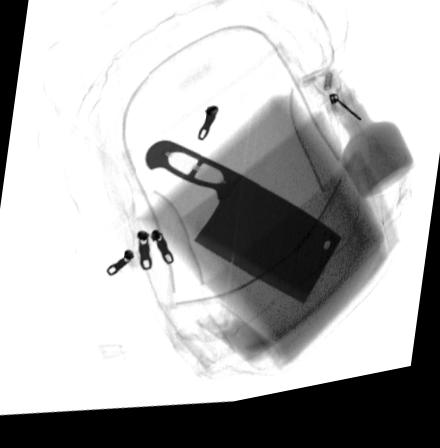Knife: (142, 145, 344, 318)
